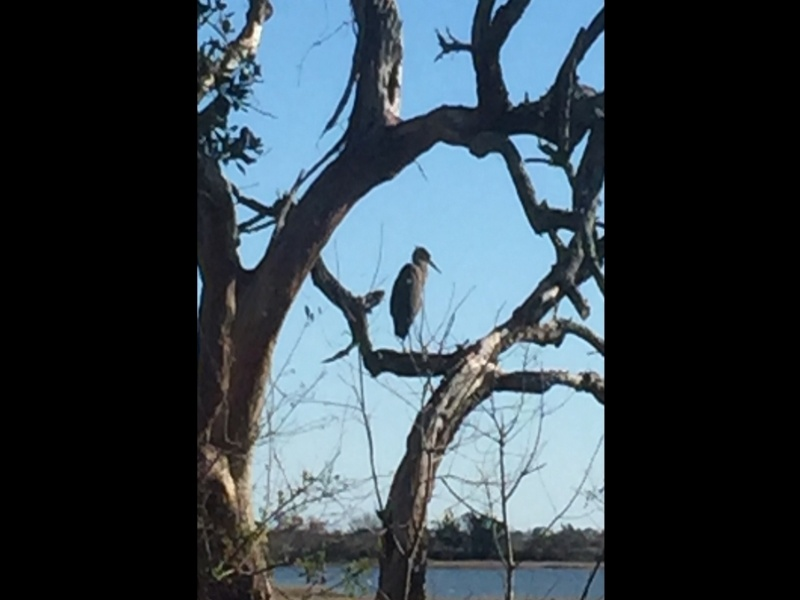heron: (390, 244, 440, 346)
